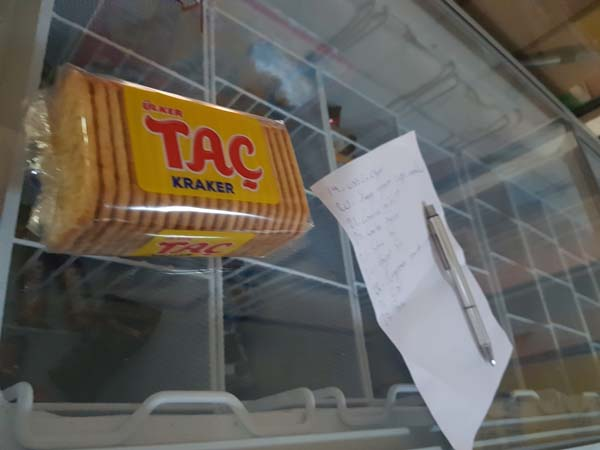tackraker: (13, 57, 319, 280)
